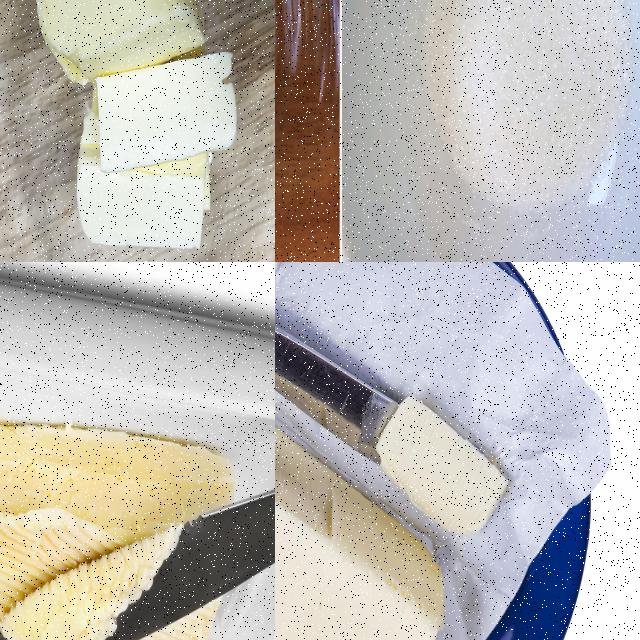butter: (27, 0, 239, 257), (0, 417, 237, 639), (275, 392, 446, 639), (371, 394, 510, 540)
